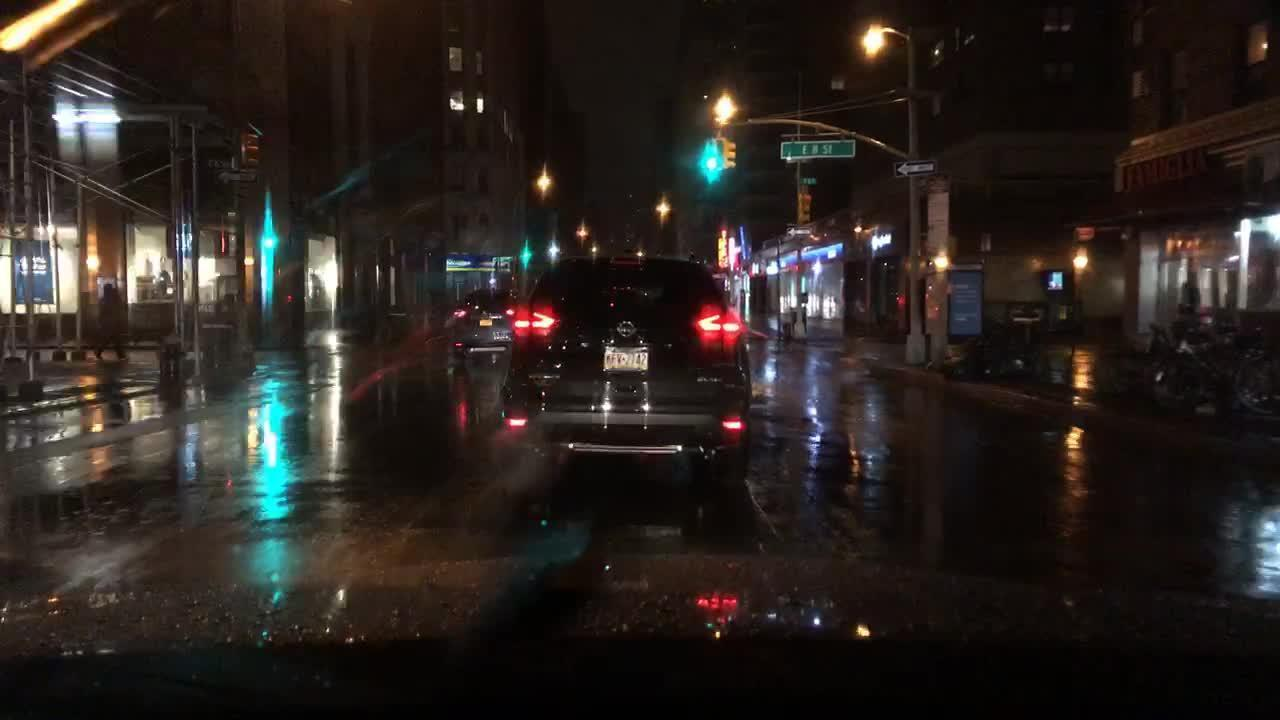Nissan: (610, 312, 641, 340)
